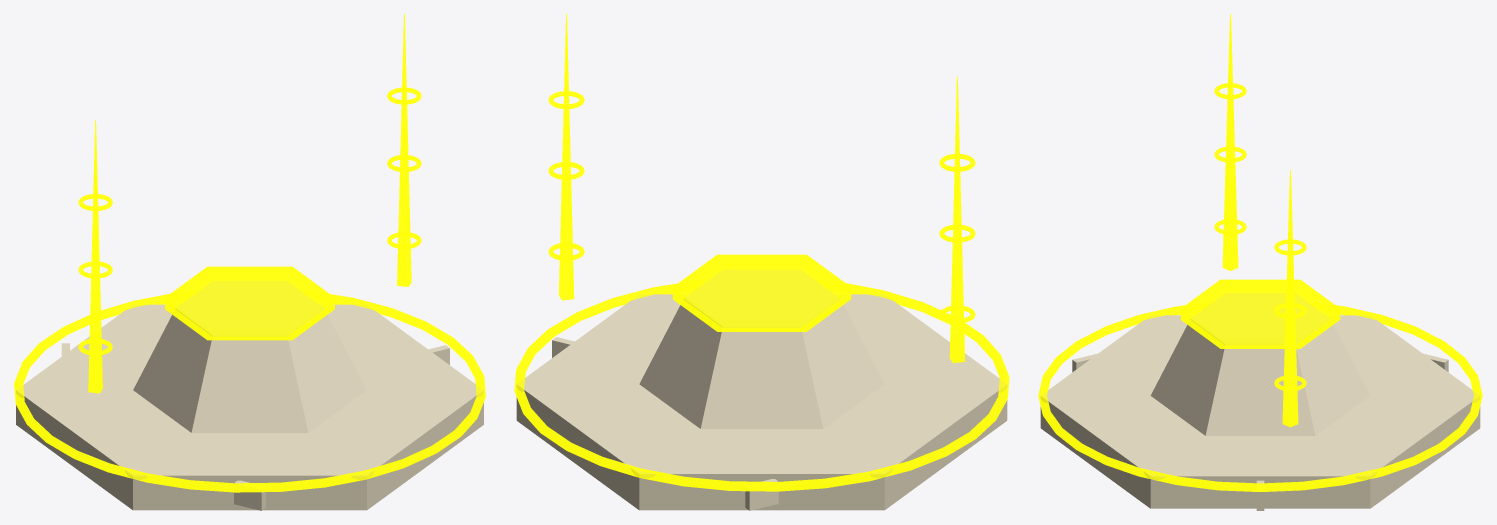
The model's file is solar_extraction_depot.glb.
3 renders of one model, left to right at view 1: azimuth 30°, elevation 25°; view 2: azimuth 150°, elevation 25°; view 3: azimuth 270°, elevation 25°, orthographic. The views are drawn at different scales.
Visible parts, largest first — view 1: SolarExtractionDepot; view 2: SolarExtractionDepot; view 3: SolarExtractionDepot.
Boxes of the visible parts, x1,y1,x2,y2 form: SolarExtractionDepot: [14, 14, 485, 510]; SolarExtractionDepot: [514, 14, 1009, 510]; SolarExtractionDepot: [1038, 14, 1482, 510].
Size of the model in its own units: 4.45 by 3.71 by 4.45.
